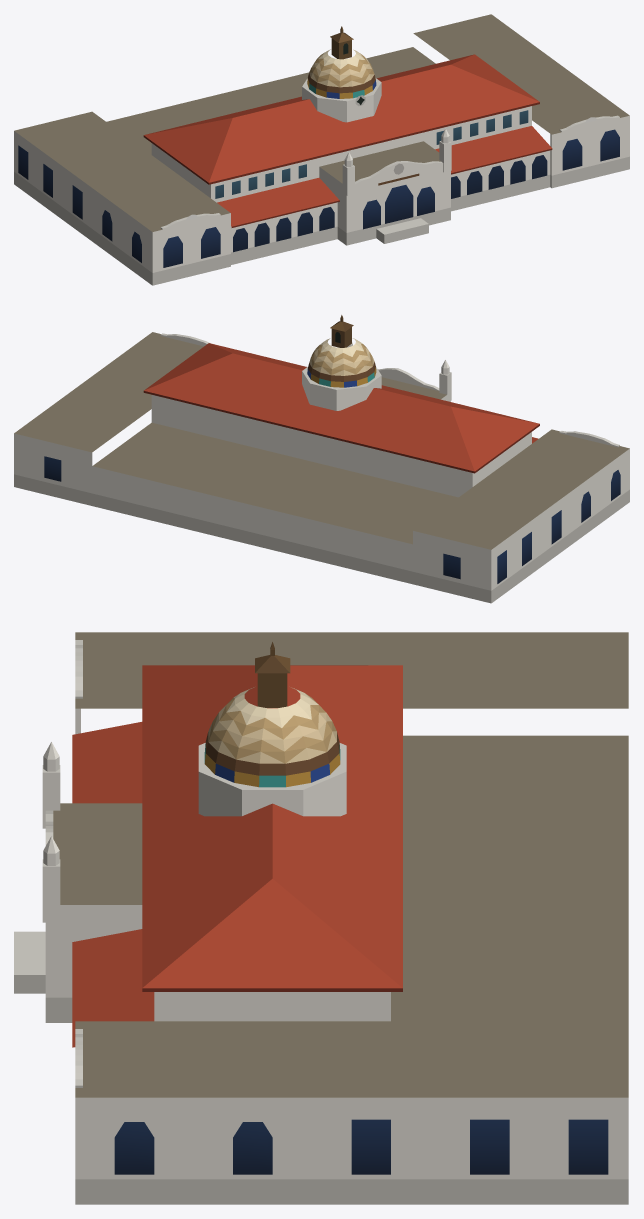
The model's file is quapaw.glb.
3 renders of one model, top to bottom at view 1: azimuth 30°, elevation 25°; view 2: azimuth 150°, elevation 25°; view 3: azimuth 270°, elevation 25°, orthographic. The views are drawn at different scales.
Parts seen in each view (by area): view 1: Quapaw; view 2: Quapaw; view 3: Quapaw.
Boxes of the visible parts, x1,y1,x2,y2 form: Quapaw: (14, 14, 629, 285); Quapaw: (14, 315, 629, 603); Quapaw: (14, 632, 628, 1204).
Size of the model in its own units: 55.94 by 18.48 by 31.2.
